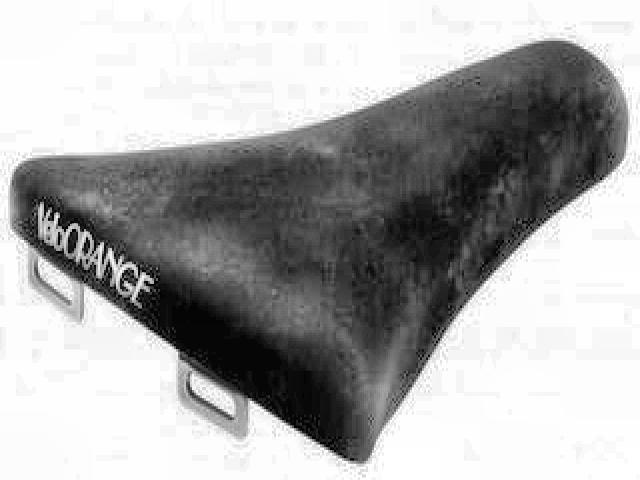saddle: (11, 31, 633, 469)
